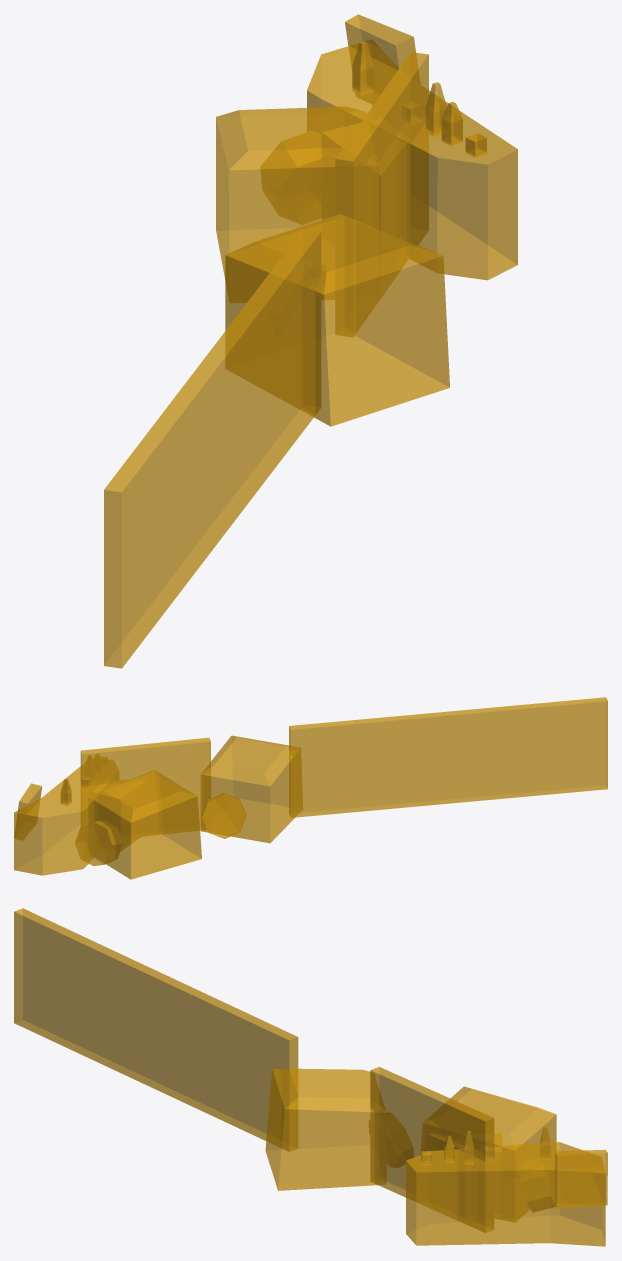
File: SM_Obstacle_08_Collision.fbx
3 renders of one model, top to bottom at view 1: azimuth 30°, elevation 25°; view 2: azimuth 150°, elevation 25°; view 3: azimuth 270°, elevation 25°, orthographic. The views are drawn at different scales.
Visible parts, largest first — view 1: Obstacle_08_Collision; view 2: Obstacle_08_Collision; view 3: Obstacle_08_Collision.
Boxes of the visible parts, <box> form: Obstacle_08_Collision: <box>104,14,517,668</box>; Obstacle_08_Collision: <box>14,697,607,879</box>; Obstacle_08_Collision: <box>14,908,607,1246</box>.
Size of the model in its own units: 714 by 165 by 781.
